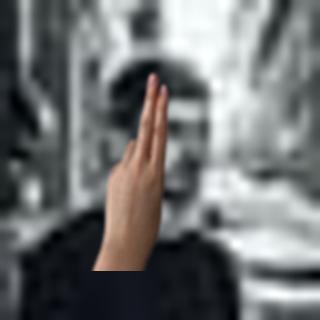DHAVE: (99, 69, 175, 256)
